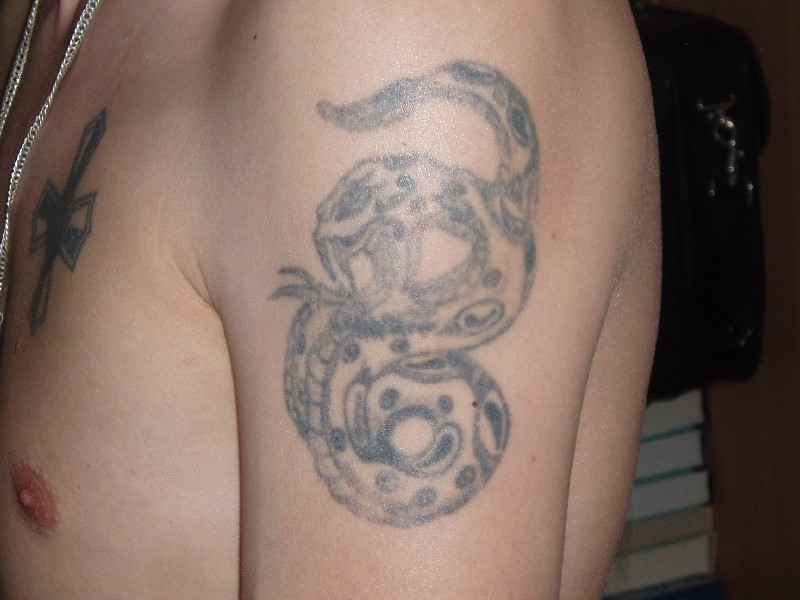tatu7_zmeya: (271, 43, 544, 552)
tatu9_krest: (3, 108, 153, 356)
